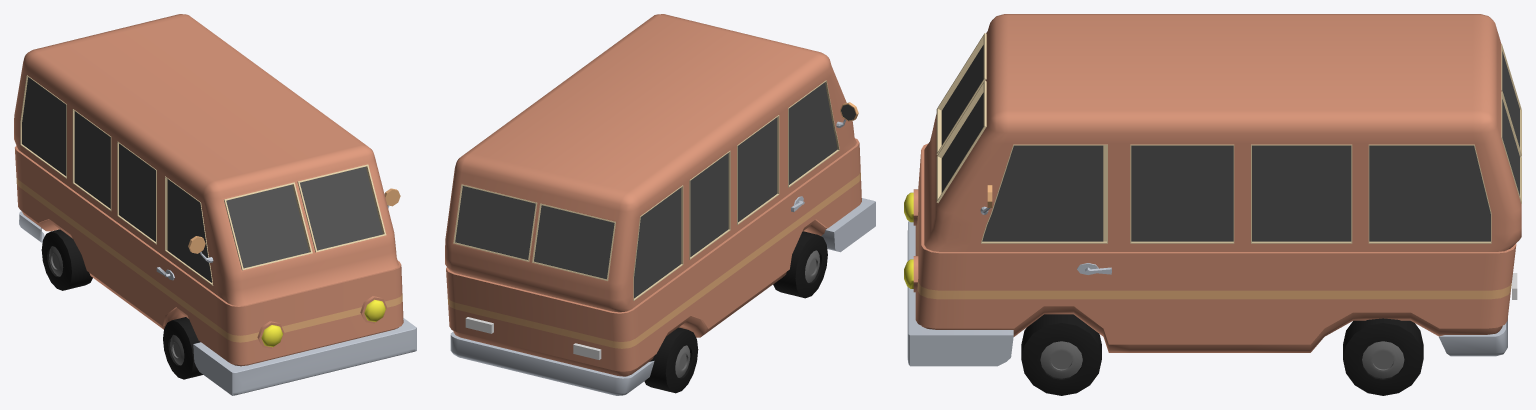
File: civil-car-B.fbx
3 renders of one model, left to right at view 1: azimuth 30°, elevation 25°; view 2: azimuth 150°, elevation 25°; view 3: azimuth 270°, elevation 25°, orthographic. The views are drawn at different scales.
Visible parts, largest first — view 1: civil-car-B, civil-car-B-rear-wheels, civil-car-B-front-wheels; view 2: civil-car-B, civil-car-B-rear-wheels, civil-car-B-front-wheels; view 3: civil-car-B, civil-car-B-front-wheels, civil-car-B-rear-wheels.
Boxes of the visible parts, left/top/right/bottom form: civil-car-B: left=14, top=14, right=416, bottom=395; civil-car-B-rear-wheels: left=41, top=229, right=92, bottom=290; civil-car-B-front-wheels: left=163, top=317, right=202, bottom=379; civil-car-B: left=445, top=14, right=875, bottom=395; civil-car-B-rear-wheels: left=644, top=327, right=698, bottom=393; civil-car-B-front-wheels: left=773, top=231, right=827, bottom=298; civil-car-B: left=904, top=14, right=1521, bottom=366; civil-car-B-front-wheels: left=1021, top=314, right=1101, bottom=395; civil-car-B-rear-wheels: left=1343, top=318, right=1423, bottom=395.
Bounding box in the file's own units: 2.38 × 2.24 × 4.55.
